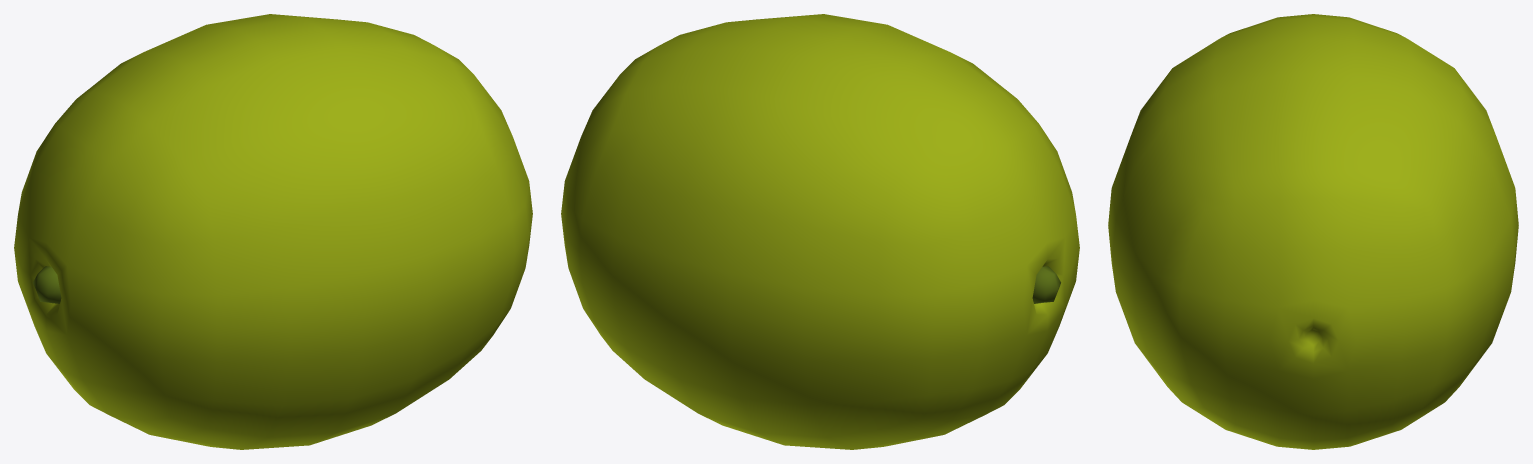
Rendered from Olive.fbx.
3 views of the same model, side by side, from view 1: azimuth 30°, elevation 25°; view 2: azimuth 150°, elevation 25°; view 3: azimuth 270°, elevation 25° (orthographic). The views are drawn at different scales.
Visible parts, largest first — view 1: Olive; view 2: Olive; view 3: Olive.
Part boxes in pixels (x1,y1,x2,y2): Olive: (14,14,532,449); Olive: (561,14,1079,449); Olive: (1108,14,1518,449).
Bounding box in the file's own units: 0.1607 × 0.1272 × 0.1272.
1 material, 1 textured.
